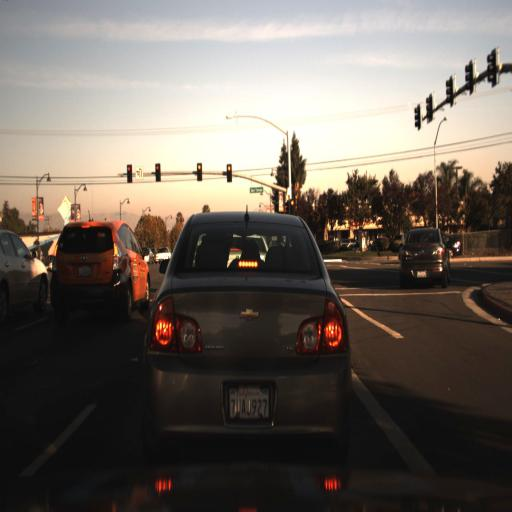car: (146, 212, 348, 454), (47, 215, 151, 335), (0, 235, 48, 321), (397, 227, 453, 299), (442, 222, 468, 263), (154, 242, 174, 264)
trafficLight-Red: (225, 160, 236, 183), (196, 160, 204, 183), (287, 192, 297, 210), (125, 162, 135, 177), (154, 159, 164, 174)
trafficLight-RedLeft: (153, 157, 163, 183), (124, 161, 132, 185)
